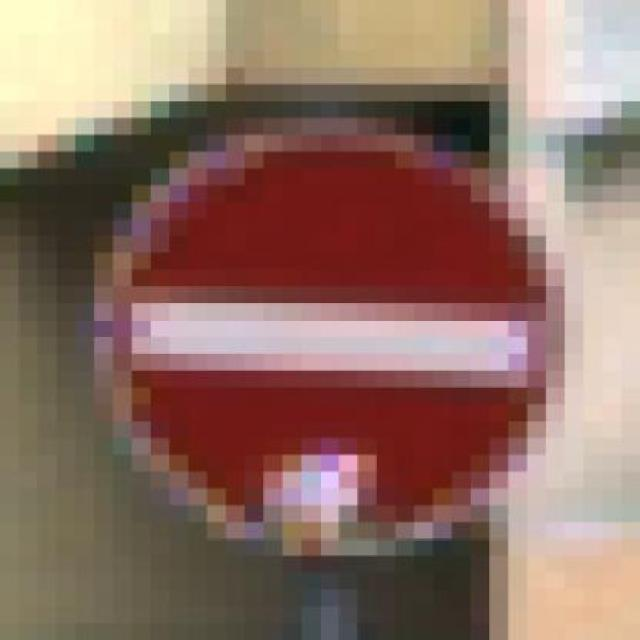B2: (109, 128, 564, 556)
